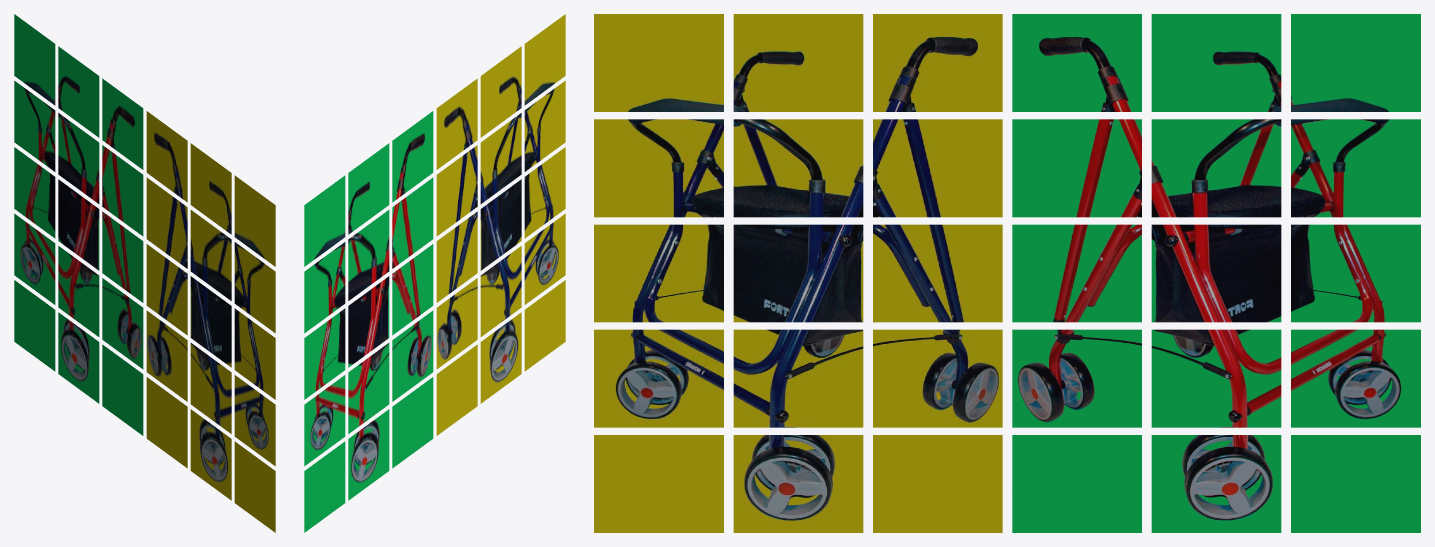
Rendered from TV_mov_4.glb.
3 views of the same model, side by side, from view 1: azimuth 30°, elevation 25°; view 2: azimuth 150°, elevation 25°; view 3: azimuth 270°, elevation 25° (orthographic). The views are drawn at different scales.
Parts seen in each view (by area): view 1: 2, 1; view 2: 2, 1; view 3: 2, 1.
Part boxes in pixels (x1=…): 2: x1=14, y1=14, x2=143, y2=435; 1: x1=146, y1=111, x2=275, y2=532; 2: x1=304, y1=111, x2=433, y2=532; 1: x1=436, y1=14, x2=565, y2=435; 2: x1=1012, y1=14, x2=1420, y2=532; 1: x1=594, y1=14, x2=1002, y2=532.
Size of the model in its own units: 1.27e-07 by 8.82 by 12.74.
2 materials, 2 textured.
